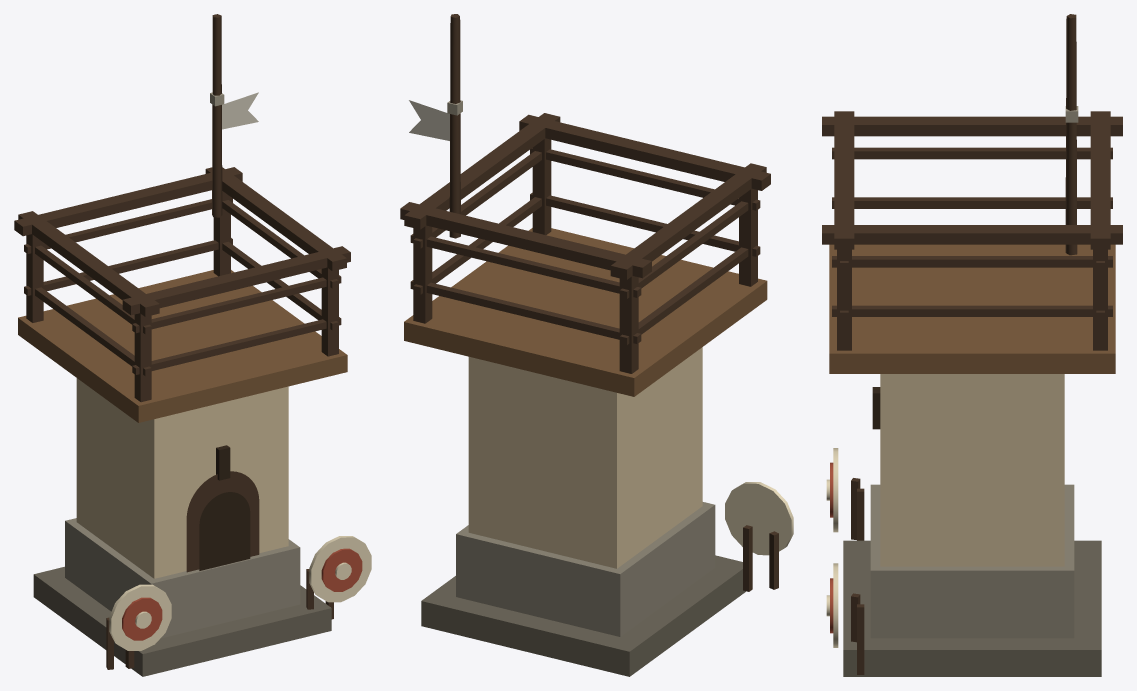
Rendered from tower-L1.glb.
The picture shows the model from 3 angles, left to right: view 1: azimuth 30°, elevation 25°; view 2: azimuth 150°, elevation 25°; view 3: azimuth 270°, elevation 25°; orthographic projection. The views are drawn at different scales.
Visible parts, largest first — view 1: building-tower-L1; view 2: building-tower-L1; view 3: building-tower-L1.
Part boxes in pixels (<box>): building-tower-L1: <box>14,14,371,676</box>; building-tower-L1: <box>400,14,793,676</box>; building-tower-L1: <box>822,14,1122,676</box>.
Bounding box in the file's own units: 1.35 × 2.71 × 1.14.
